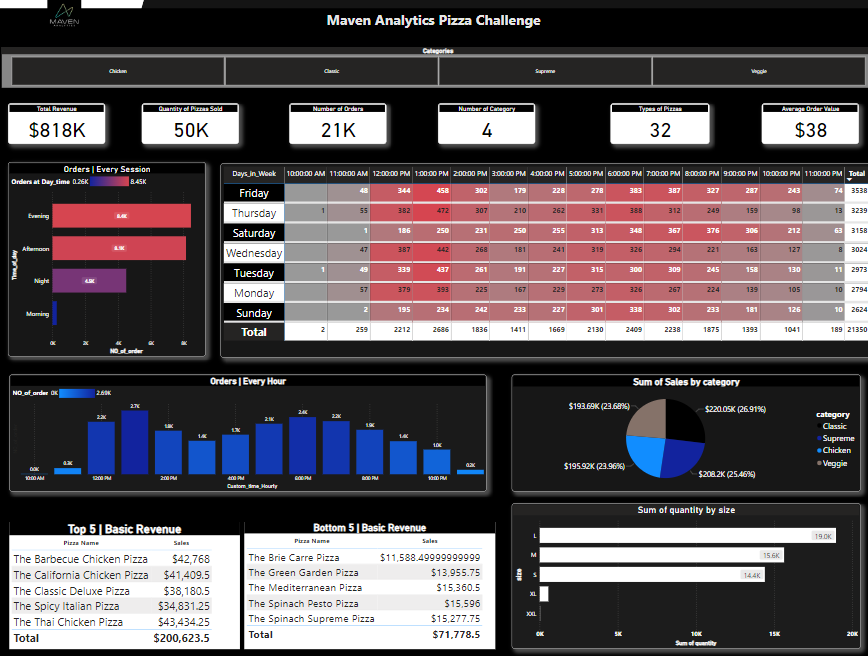

Layout of this report page (visuals, bound fields, positions):
{"tool":"powerbi","page":{"name":"Category","canvas":[2350,1800],"ordinal":1},"visuals":[{"type":"shape","box":[0,0,2350,1400],"z":0},{"type":"shape","box":[0,60.6,2351.5,1709.1],"z":1000},{"type":"textbox","box":[0,28.6,2350,61.9],"z":2000},{"type":"image","box":[23.8,0,333.3,100],"z":3000},{"type":"card","title":"Total Revenue","fields":{"Values":["Sum(order_details.Sales)"]},"box":[40.9,281.8,259.1,109.1],"z":8000},{"type":"card","title":"Quantity of Pizzas Sold","fields":{"Values":["Sum(order_details.quantity)"]},"box":[395.5,281.8,259.1,109.1],"z":9000},{"type":"card","title":"Number of Orders","fields":{"Values":["order_details.NO_of_order"]},"box":[790.9,281.8,259.1,109.1],"z":10000},{"type":"card","title":"Number of Category","fields":{"Values":["Count(pizza_types.category)"]},"box":[1186.4,281.8,259.1,109.1],"z":11000},{"type":"card","title":"Types of Pizzas","fields":{"Values":["Count(pizza_types.pizza_type_id)"]},"box":[1645.5,281.8,263.6,109.1],"z":12000},{"type":"card","title":"Average Order Value","fields":{"Values":["order_details.Avg_order_value"]},"box":[2050,281.8,259.1,109.1],"z":13000},{"type":"pieChart","fields":{"Y":["Sum(order_details.Sales)"],"Category":["pizza_types.category"]},"box":[1381.8,1006.1,930.3,312.1],"z":14000},{"type":"pivotTable","fields":{"Columns":["orders.Custom_time_Hourly"],"Values":["order_details.NO_of_order"],"Rows":["orders.Days_in_Week"]},"box":[606.1,442.4,1745.5,518.2],"z":15000},{"type":"columnChart","title":"Orders | Every Hour","fields":{"Y":["order_details.NO_of_order"],"Category":["orders.Custom_time_Hourly"]},"box":[42.4,1006.1,1272.7,312.1],"z":16000},{"type":"tableEx","title":"Top 5 | Basic Revenue","fields":{"Values":["pizza_types.name","Sum(order_details.Sales)"]},"box":[42.4,1400,615.2,339.4],"z":17000},{"type":"tableEx","title":"Bottom 5 | Basic Revenue","fields":{"Values":["pizza_types.name","Sum(order_details.Sales)"]},"box":[669.7,1400,669.7,339.4],"z":18000},{"type":"clusteredBarChart","title":"Orders | Every Session","fields":{"Category":["orders.Time_of_day"],"Y":["order_details.NO_of_order"]},"box":[40.9,440.9,527.3,518.2],"z":19000},{"type":"barChart","fields":{"Category":["pizzas.size"],"Y":["Sum(order_details.quantity)"]},"box":[1381.8,1351.5,930.3,387.9],"z":20000},{"type":"slicer","title":"Categories","fields":{"Values":["pizza_types.category"]},"box":[22.7,131.8,2327.3,109.1],"z":20001}]}

Visuals, with their boxes in screenshot pixels (x1, y1, x2, y2), scaled from the page's 2350x1800 canvas onto the 868x656 screenshot:
shape: locate(0, 0, 867, 510)
shape: locate(0, 22, 867, 645)
textbox: locate(0, 10, 867, 33)
image: locate(9, 0, 132, 36)
"Total Revenue" card: locate(15, 103, 111, 142)
"Quantity of Pizzas Sold" card: locate(146, 103, 242, 142)
"Number of Orders" card: locate(292, 103, 388, 142)
"Number of Category" card: locate(438, 103, 534, 142)
"Types of Pizzas" card: locate(608, 103, 705, 142)
"Average Order Value" card: locate(757, 103, 853, 142)
pieChart - Sum(order_details.Sales) x pizza_types.category: locate(510, 367, 854, 480)
pivotTable - orders.Custom_time_Hourly x order_details.NO_of_order: locate(224, 161, 867, 350)
"Orders | Every Hour" columnChart: locate(16, 367, 486, 480)
"Top 5 | Basic Revenue" tableEx: locate(16, 510, 243, 634)
"Bottom 5 | Basic Revenue" tableEx: locate(247, 510, 495, 634)
"Orders | Every Session" clusteredBarChart: locate(15, 161, 210, 350)
barChart - pizzas.size x Sum(order_details.quantity): locate(510, 493, 854, 634)
"Categories" slicer: locate(8, 48, 867, 88)
